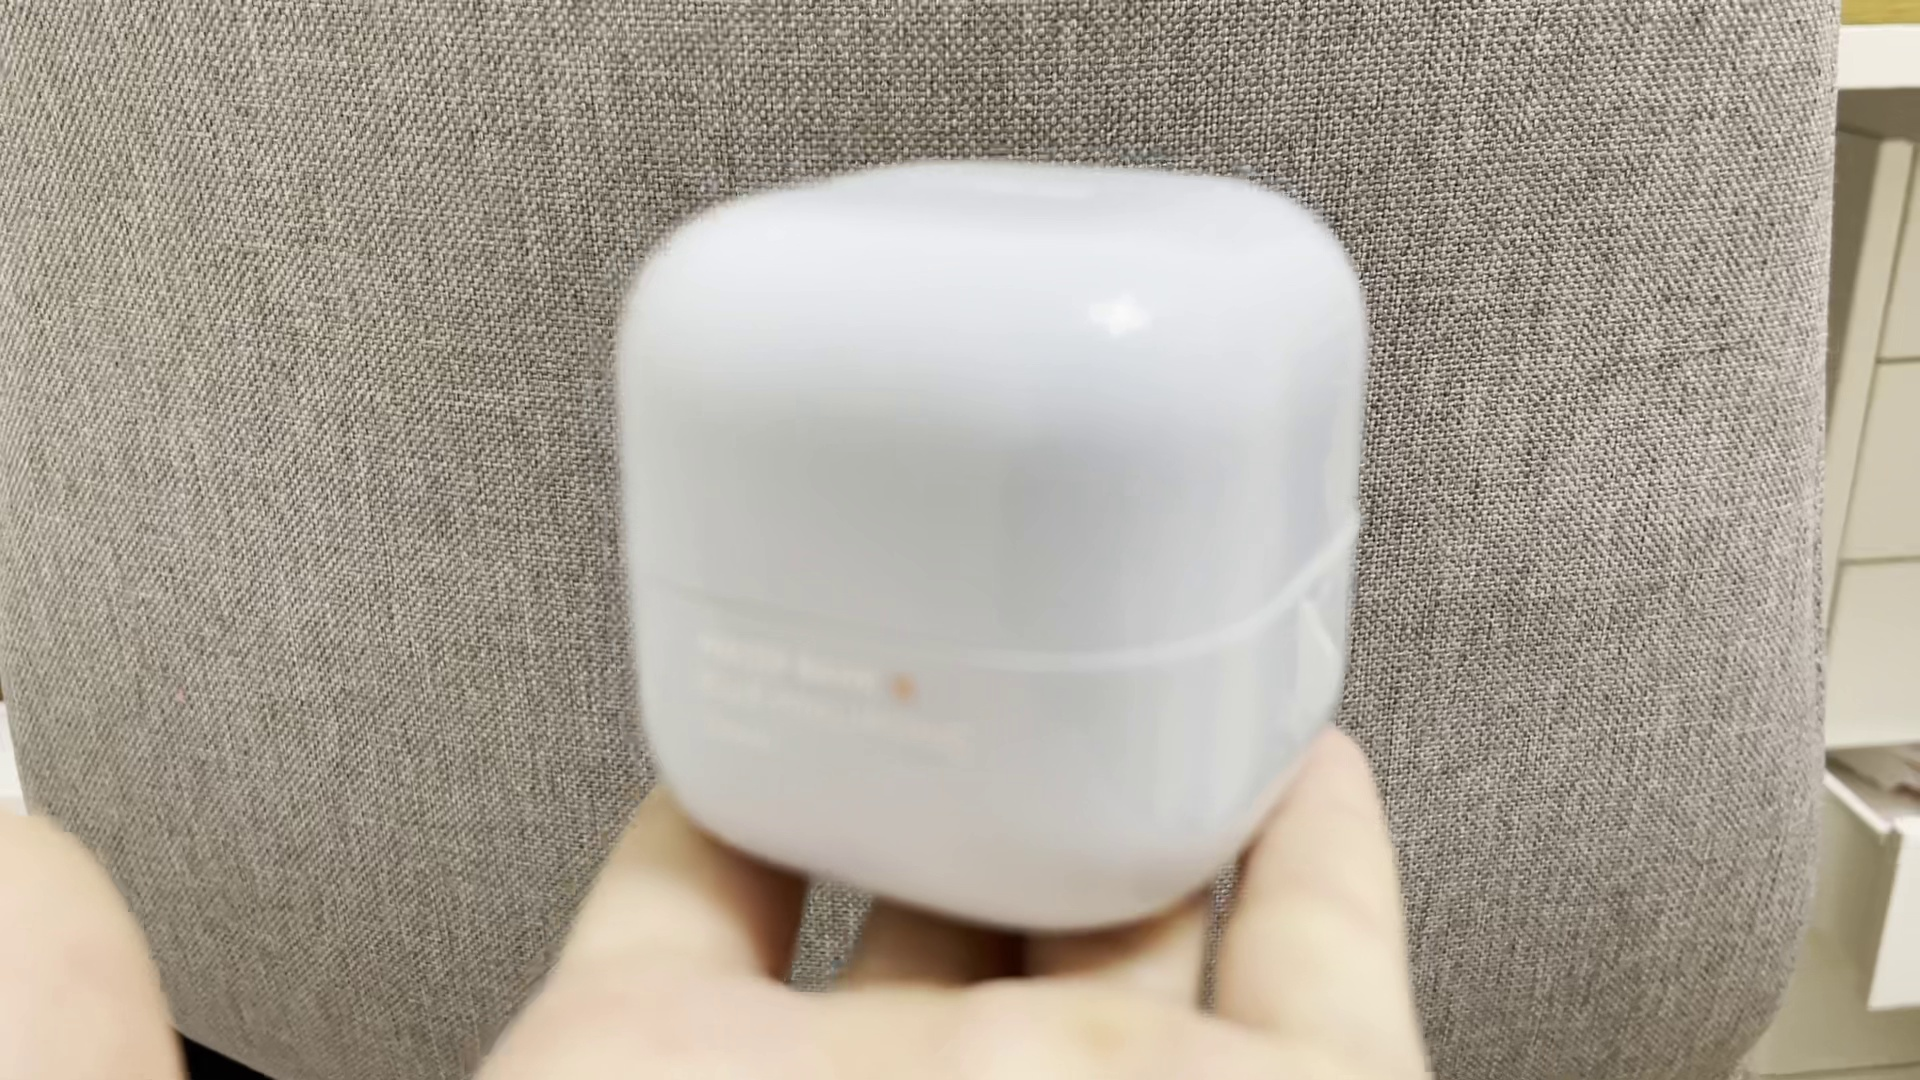cream: (620, 167, 1356, 932)
